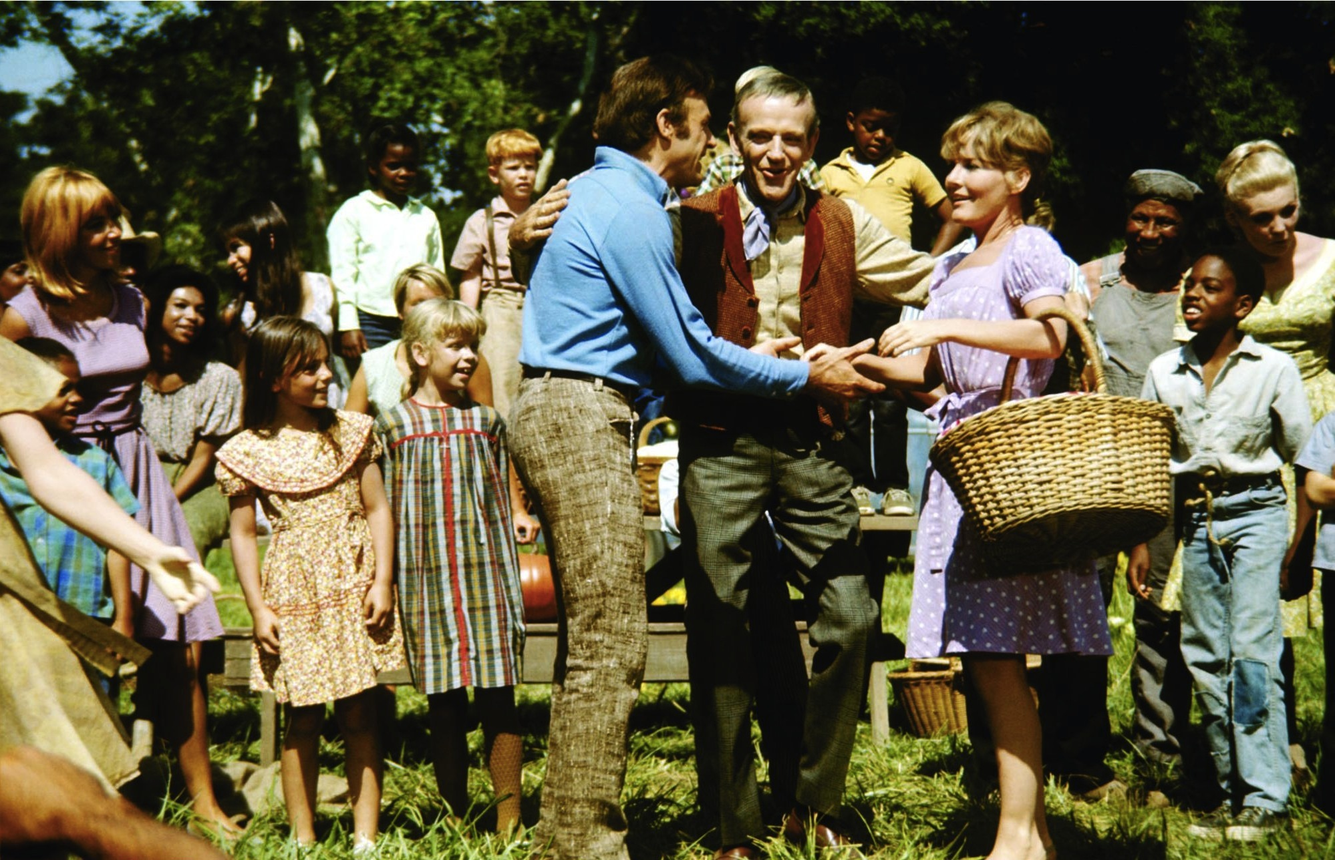11: (420, 314, 484, 397)
12: (272, 330, 342, 418), (846, 98, 905, 170)
15: (1170, 246, 1243, 339)
16: (1229, 169, 1306, 267)
20: (63, 183, 130, 280)
25: (153, 278, 215, 353), (214, 224, 264, 288)
33: (935, 124, 1016, 235)
45: (657, 75, 723, 201)
52: (726, 81, 821, 213), (1115, 185, 1192, 275)
8: (371, 136, 423, 200)
9: (25, 347, 89, 445), (492, 144, 543, 204)
Belt: (1179, 471, 1288, 499)
Dress: (891, 228, 1130, 674), (17, 272, 224, 640), (372, 397, 524, 698), (247, 400, 385, 700), (1249, 228, 1328, 453)
Female: (935, 124, 1016, 235), (1229, 169, 1306, 267), (63, 183, 130, 280), (272, 330, 342, 418), (420, 314, 484, 397), (153, 278, 215, 353), (214, 224, 264, 288)
Hat: (1118, 160, 1211, 214)
Jeans: (1165, 503, 1298, 819)
Joggers: (1182, 801, 1291, 852)
Male: (726, 81, 821, 213), (657, 75, 723, 201), (1115, 185, 1192, 275), (1170, 246, 1243, 339), (25, 347, 89, 445), (846, 98, 905, 170), (371, 136, 423, 200), (492, 144, 543, 204)
Pants: (670, 432, 885, 852), (508, 364, 651, 860)
Scarf: (741, 200, 800, 276)
Shirt: (506, 144, 815, 389), (1, 433, 146, 614), (1137, 332, 1315, 471), (816, 140, 956, 270), (328, 178, 446, 322), (438, 181, 541, 298)
Shoes: (783, 803, 871, 860)
Waistcoat: (667, 193, 860, 390)
